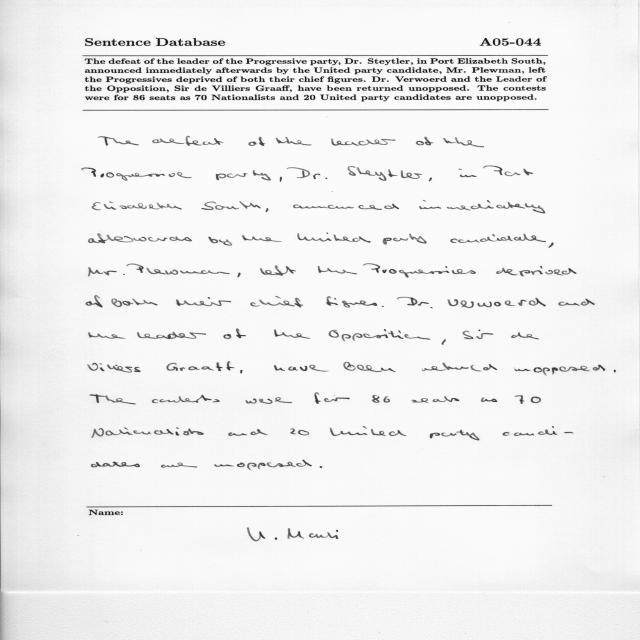word: (420, 201, 546, 214), (363, 264, 476, 278), (82, 167, 191, 181), (329, 329, 430, 342), (92, 427, 204, 438), (126, 264, 230, 275), (348, 166, 423, 181), (89, 233, 192, 243), (515, 365, 606, 376), (214, 460, 312, 470), (450, 234, 546, 243), (461, 298, 546, 308), (92, 202, 182, 211), (496, 266, 577, 276), (330, 426, 406, 436), (297, 233, 371, 243), (152, 136, 224, 146), (503, 426, 573, 436), (422, 363, 497, 372), (397, 297, 458, 308), (167, 362, 234, 372), (293, 204, 399, 210), (327, 296, 378, 308), (216, 170, 271, 181), (250, 296, 303, 307), (152, 395, 220, 403), (201, 201, 261, 210), (430, 430, 479, 441), (88, 363, 141, 373), (343, 362, 396, 372), (483, 166, 533, 176), (176, 297, 231, 306), (287, 167, 328, 179), (383, 234, 427, 245), (137, 332, 206, 339), (90, 395, 136, 405), (331, 139, 395, 146), (111, 298, 158, 307), (98, 136, 139, 146), (443, 137, 484, 147), (314, 393, 350, 404), (89, 267, 125, 277), (260, 266, 296, 276), (412, 396, 460, 403), (274, 365, 329, 371), (274, 330, 310, 339), (246, 397, 292, 404), (318, 266, 357, 274), (91, 462, 140, 468), (276, 137, 312, 145), (242, 235, 282, 242), (229, 429, 268, 436), (463, 330, 493, 339), (558, 299, 595, 306), (89, 332, 126, 339), (515, 395, 541, 404), (223, 329, 246, 339), (208, 237, 232, 246), (86, 296, 103, 308), (511, 333, 539, 340), (161, 463, 197, 468), (249, 137, 266, 146), (459, 169, 477, 177), (372, 395, 390, 403), (416, 137, 433, 145), (290, 429, 309, 436), (481, 398, 497, 402), (548, 243, 554, 248), (441, 339, 446, 345), (237, 273, 241, 278), (429, 178, 432, 182), (266, 208, 269, 212), (240, 370, 243, 374), (280, 177, 282, 182), (614, 370, 616, 373), (320, 466, 322, 468), (382, 306, 384, 307)
